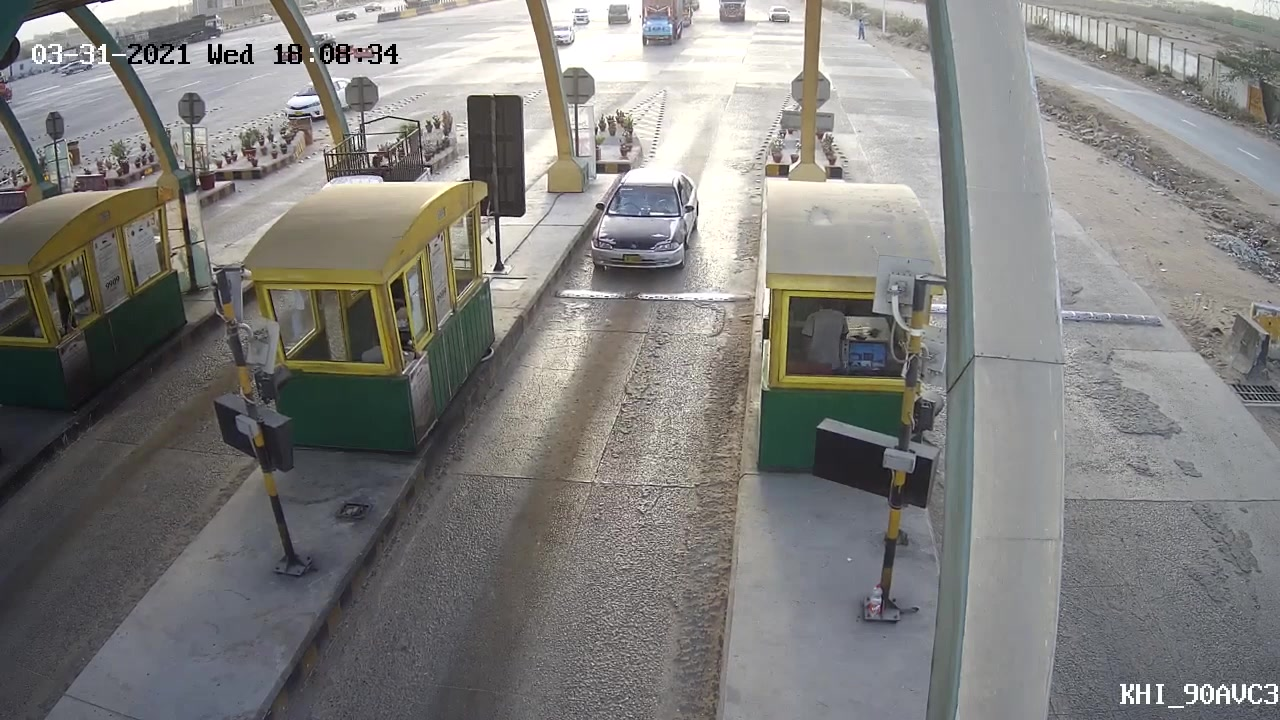F1: (572, 160, 706, 280)
